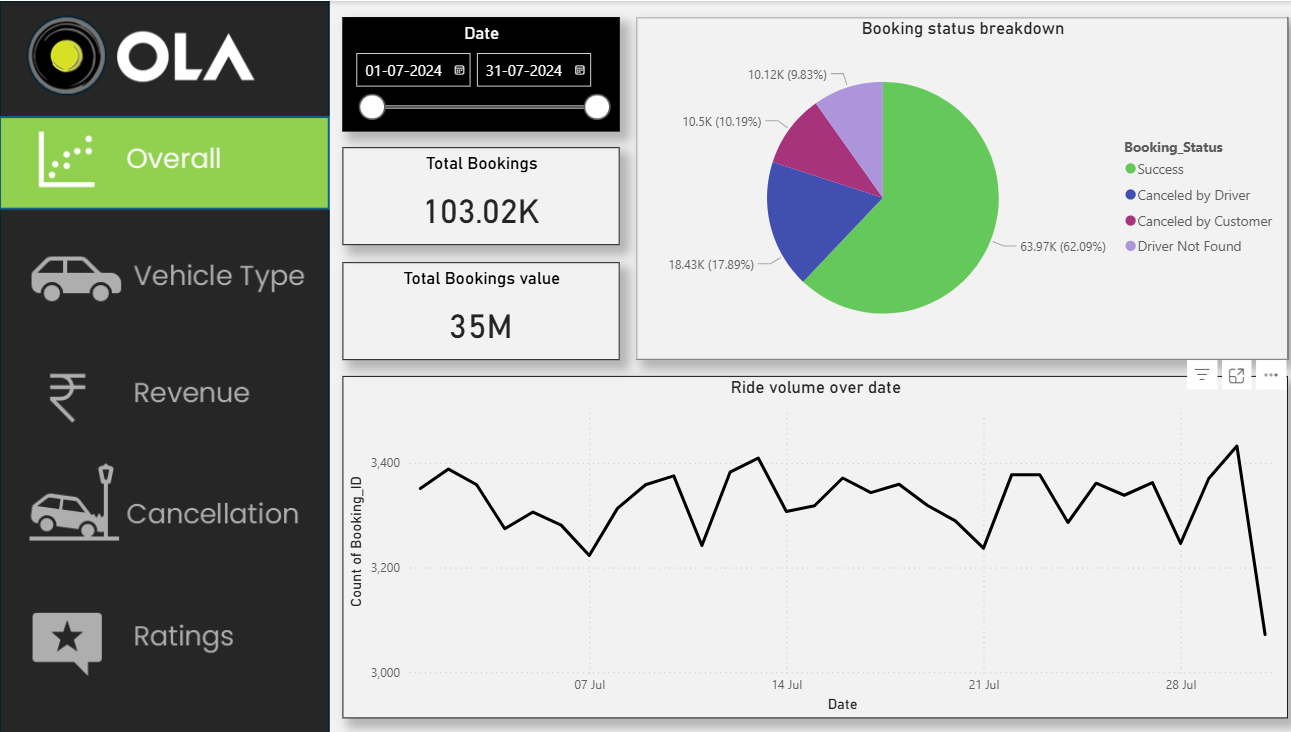

The page's visual inventory and layout, read from the dashboard file:
{"tool":"powerbi","page":{"name":"Overall","canvas":[1280,720],"ordinal":0},"visuals":[{"type":"actionButton","box":[0,112,320,96],"z":0},{"type":"actionButton","box":[0,224,320,96],"z":1000},{"type":"actionButton","box":[0,336,320,96],"z":2000},{"type":"actionButton","box":[0,448,320,96],"z":3000},{"type":"actionButton","box":[0,576,320,96],"z":4000},{"type":"lineChart","title":"Ride volume over date","fields":{"Y":["CountNonNull(July.Booking_ID)"],"Category":["July.Date"]},"box":[336,368,928,336],"z":5000},{"type":"pieChart","title":"Booking status breakdown","fields":{"Category":["July.Booking_Status"],"Y":["CountNonNull(July.Booking_Status)"]},"box":[624,16,640,336],"z":6000},{"type":"slicer","title":"Date","fields":{"Values":["July.Date"]},"box":[336,16,272,112],"z":7000},{"type":"card","title":"Total Bookings","fields":{"Values":["CountNonNull(July.Booking_ID)"]},"box":[336,144,272,96],"z":8000},{"type":"card","title":"Total Bookings value","fields":{"Values":["Sum(July.Booking_Value)"]},"box":[336,256,272,96],"z":9000}]}

Visuals, with their boxes in screenshot pixels (x1, y1, x2, y2), scaled from the page's 1280x720 canvas onto the 1291x732 screenshot:
actionButton: [x1=0, y1=114, x2=323, y2=211]
actionButton: [x1=0, y1=228, x2=323, y2=325]
actionButton: [x1=0, y1=342, x2=323, y2=439]
actionButton: [x1=0, y1=455, x2=323, y2=553]
actionButton: [x1=0, y1=586, x2=323, y2=683]
"Ride volume over date" lineChart: [x1=339, y1=374, x2=1275, y2=716]
"Booking status breakdown" pieChart: [x1=629, y1=16, x2=1275, y2=358]
"Date" slicer: [x1=339, y1=16, x2=613, y2=130]
"Total Bookings" card: [x1=339, y1=146, x2=613, y2=244]
"Total Bookings value" card: [x1=339, y1=260, x2=613, y2=358]
